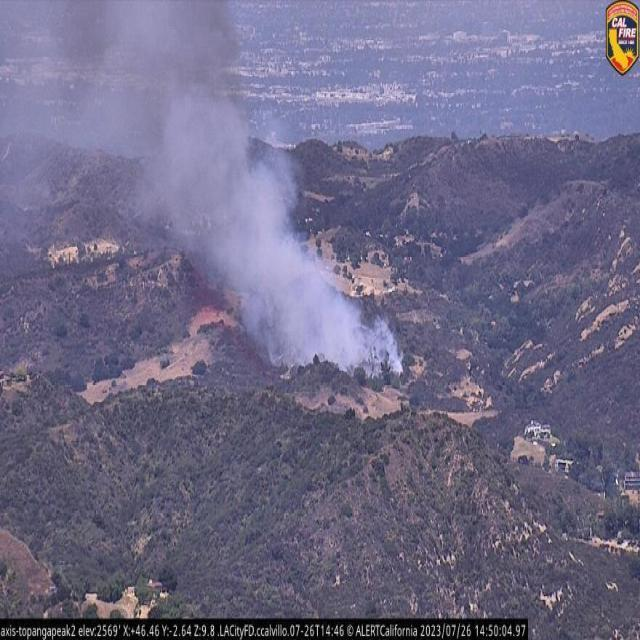Smoke: (98, 0, 386, 383)
